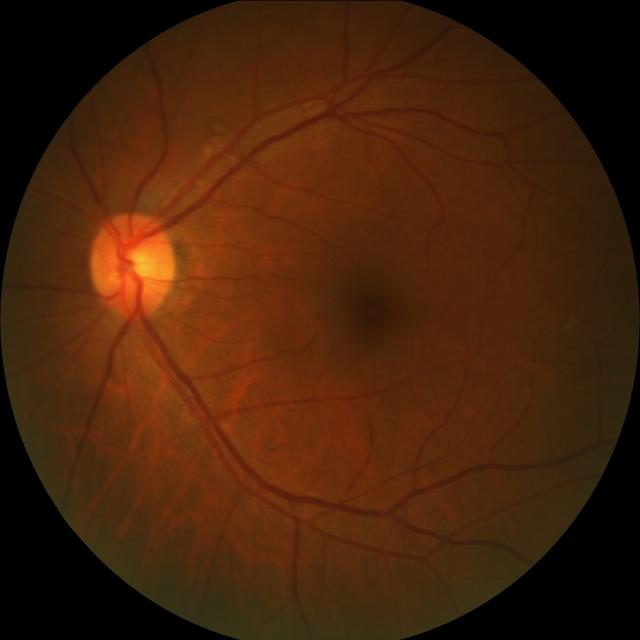OC: (107, 234, 161, 295)
OD: (91, 210, 179, 315)
